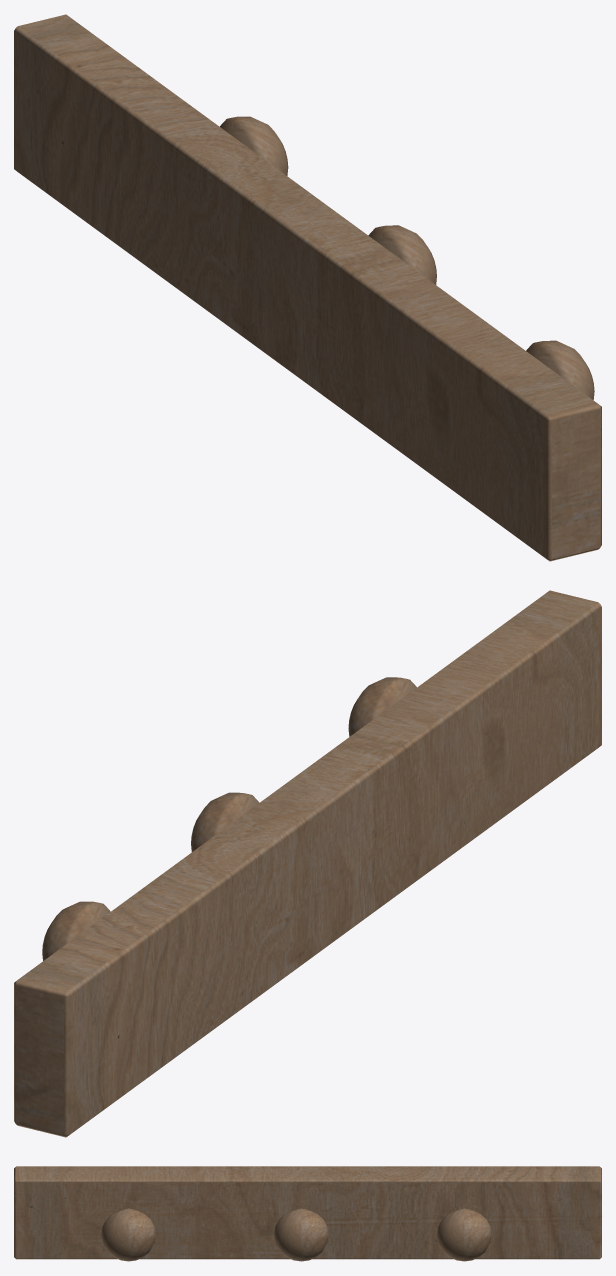
The model's file is SM_Cloth_Hanger.fbx.
3 renders of one model, top to bottom at view 1: azimuth 30°, elevation 25°; view 2: azimuth 150°, elevation 25°; view 3: azimuth 270°, elevation 25°, orthographic. The views are drawn at different scales.
Parts seen in each view (by area): view 1: SM_Cloth_Hanger_LOD0; view 2: SM_Cloth_Hanger_LOD0; view 3: SM_Cloth_Hanger_LOD0.
Boxes of the visible parts, left/top/right/bottom form: SM_Cloth_Hanger_LOD0: left=14, top=14, right=601, bottom=561; SM_Cloth_Hanger_LOD0: left=14, top=590, right=601, bottom=1137; SM_Cloth_Hanger_LOD0: left=14, top=1166, right=601, bottom=1261.
Bounding box in the file's own units: 12.64 × 83.57 × 12.52.
1 material, 1 textured.
